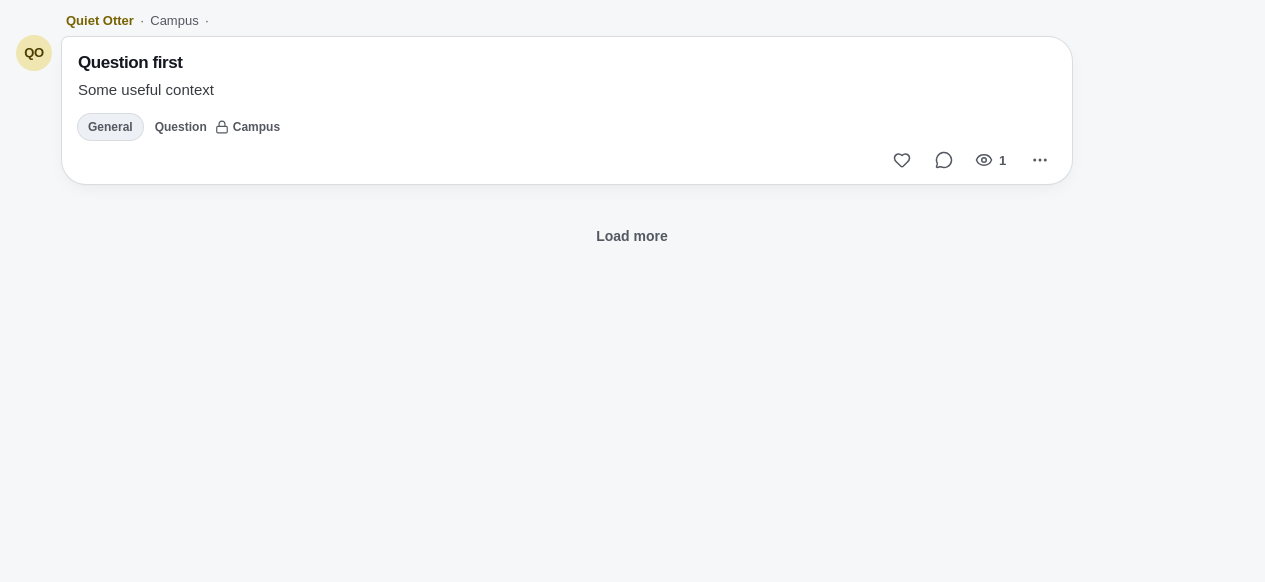
Test: retains successful likes and revealed poll results on a loaded feed page
The width and height of the screenshot is (1265, 582).
What coordinates should you click on to do the following:
click the button "Load more"
I would click on:
 (632, 236)
Its box is [580, 216, 684, 256].
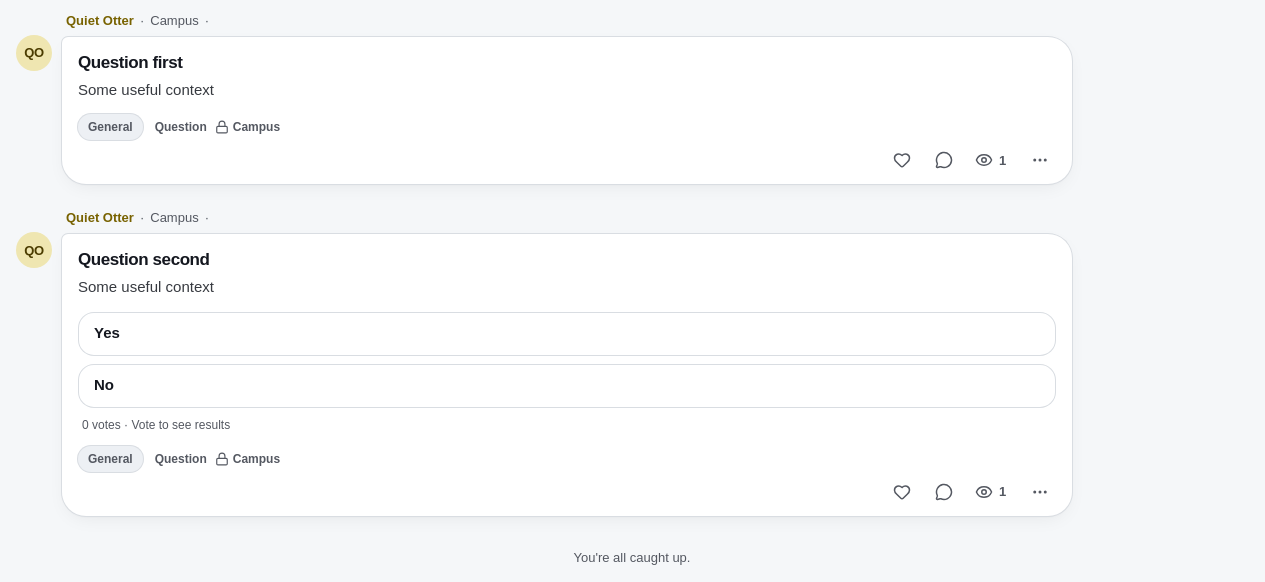
What coordinates should you click on to do the following:
click the 2nd button named "Like"
I would click on:
 (902, 492)
Its box is [883, 476, 921, 508].
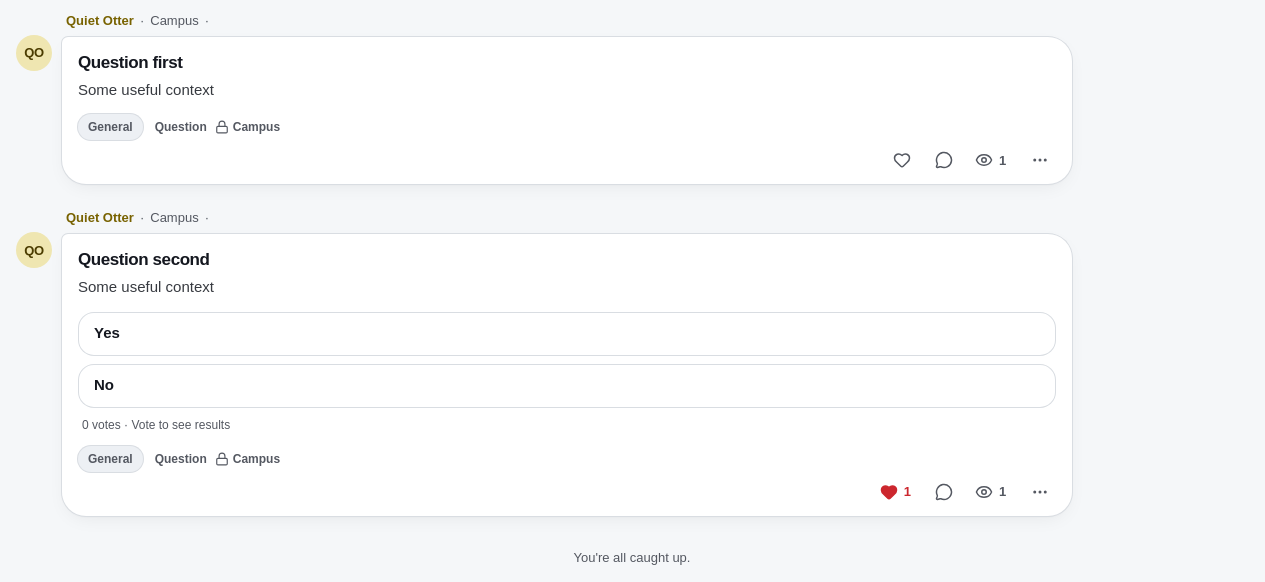
Expected: the button "1" is shown, [870, 476, 921, 508]
What coordinates should you click on to do the following:
click the button "Yes"
I would click on:
 (107, 333)
Its box is [78, 312, 1056, 356].
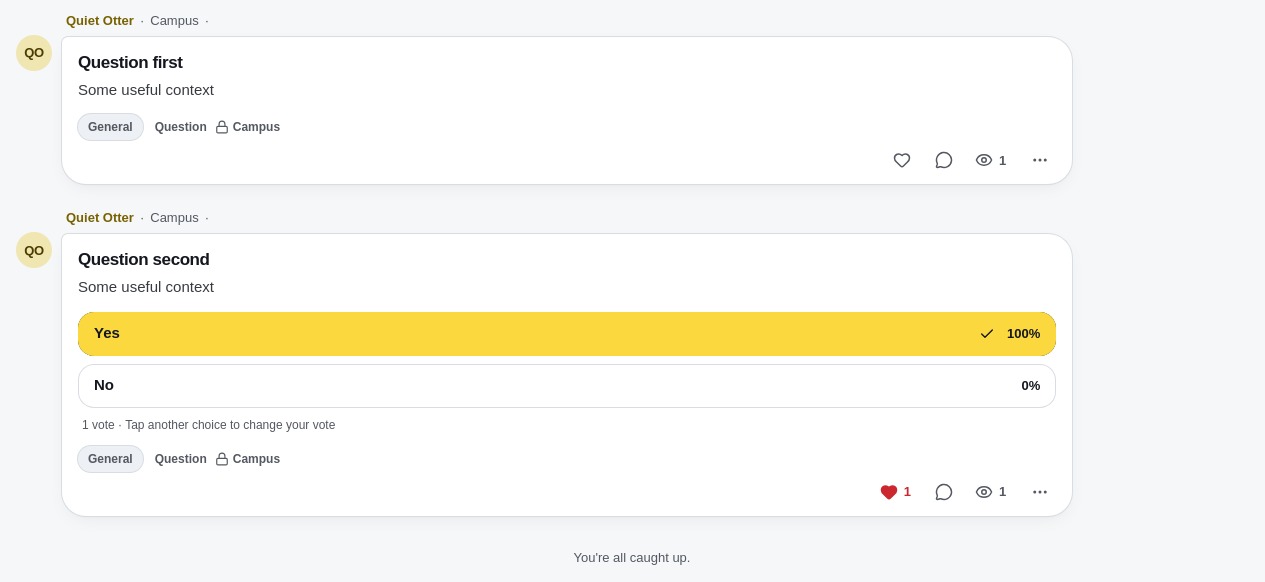
Expected: the text "1 vote" is shown, [16, 208, 1248, 516]
Expected: the text "100%" is shown, [16, 208, 1248, 516]
